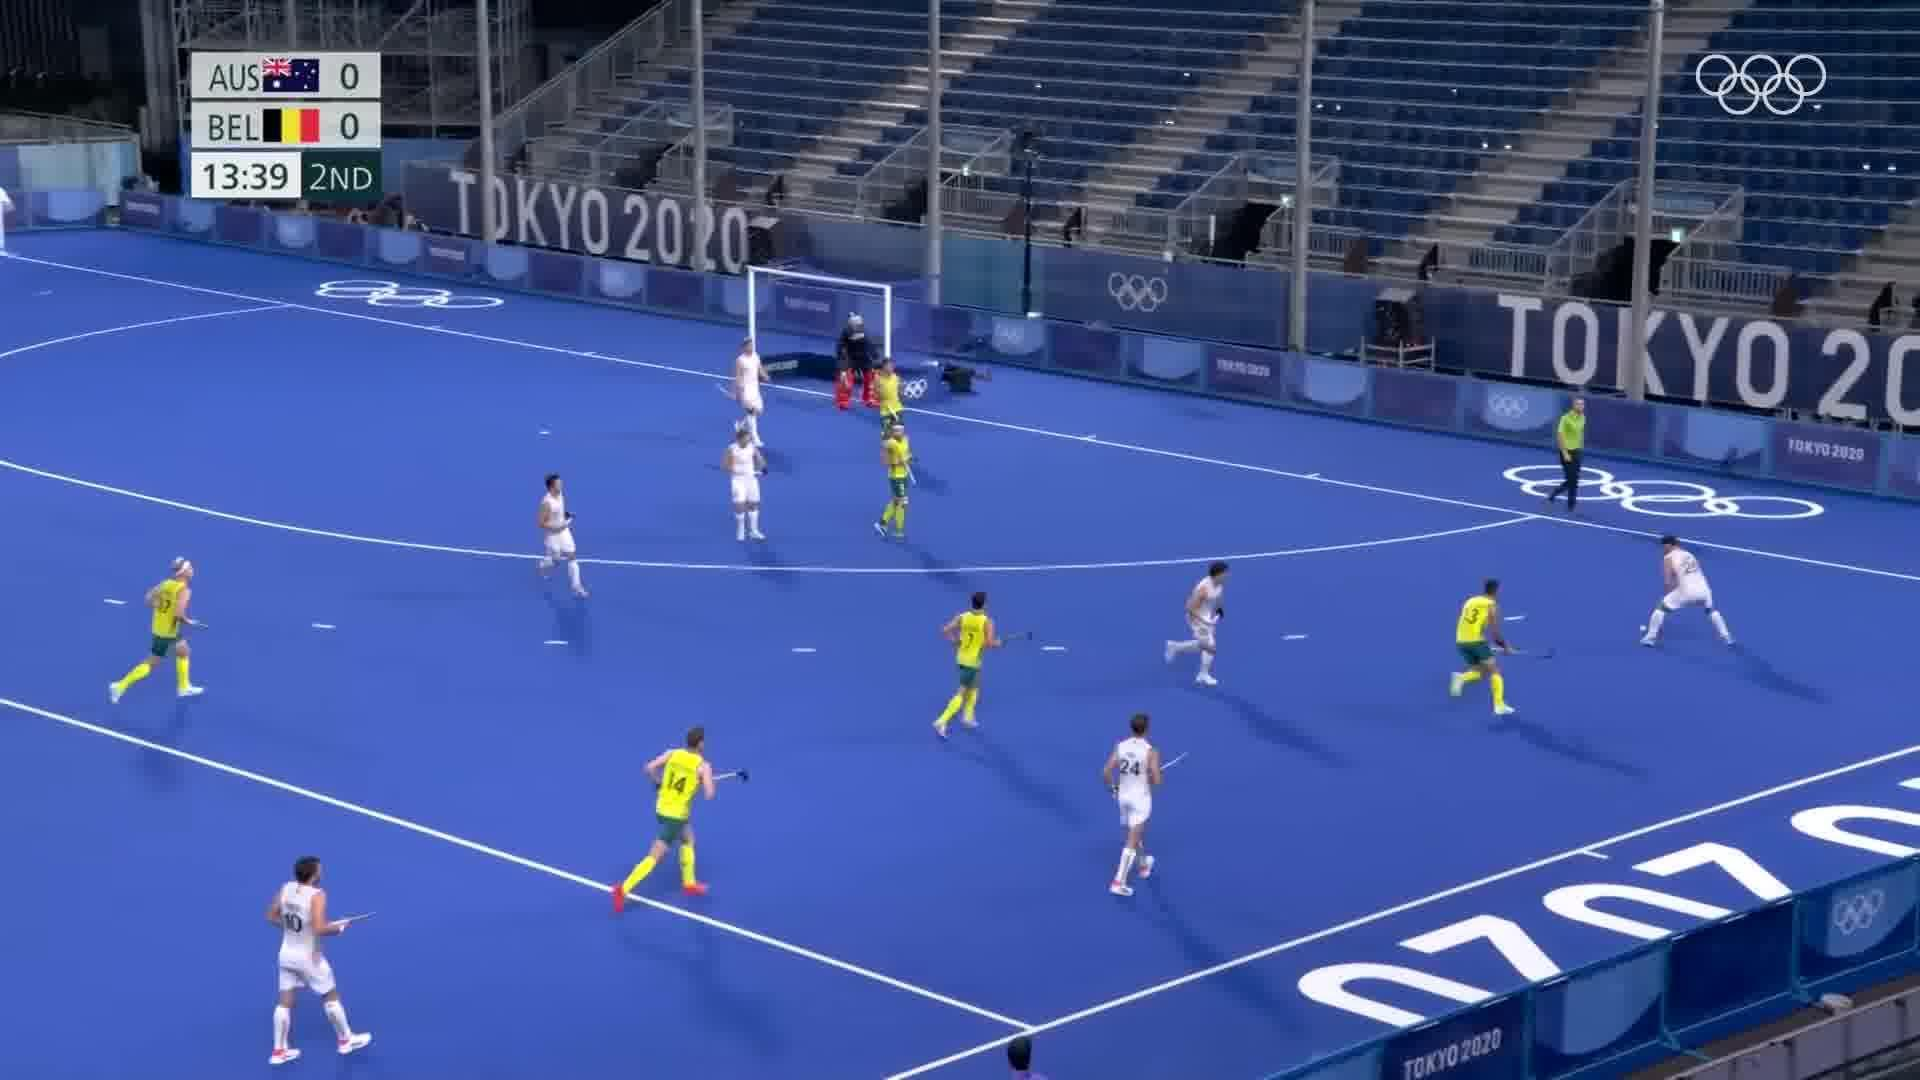ball: (1633, 618, 1650, 638)
